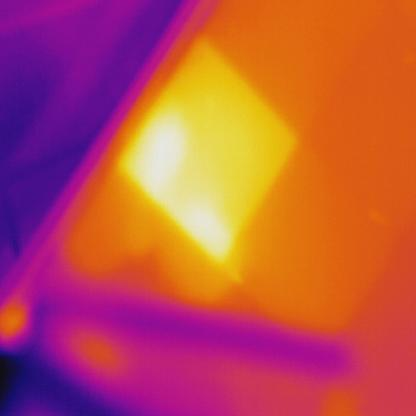hotspot: (108, 25, 306, 265)
